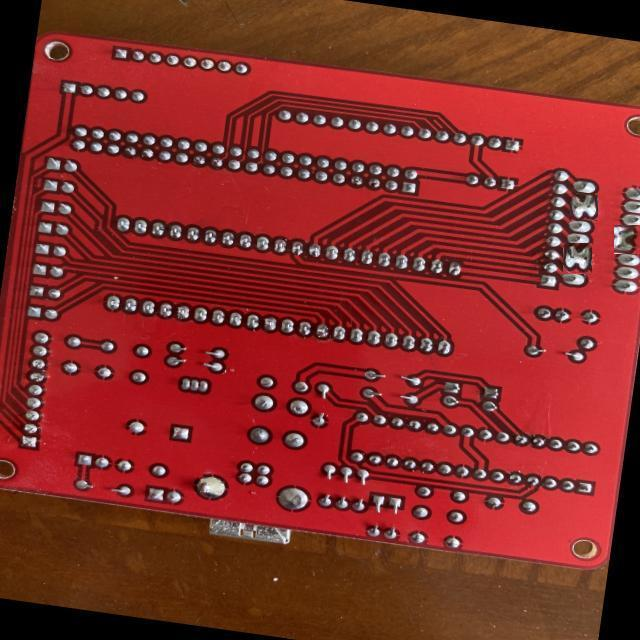damged: (562, 244, 593, 274), (570, 193, 598, 220), (614, 225, 640, 254)
